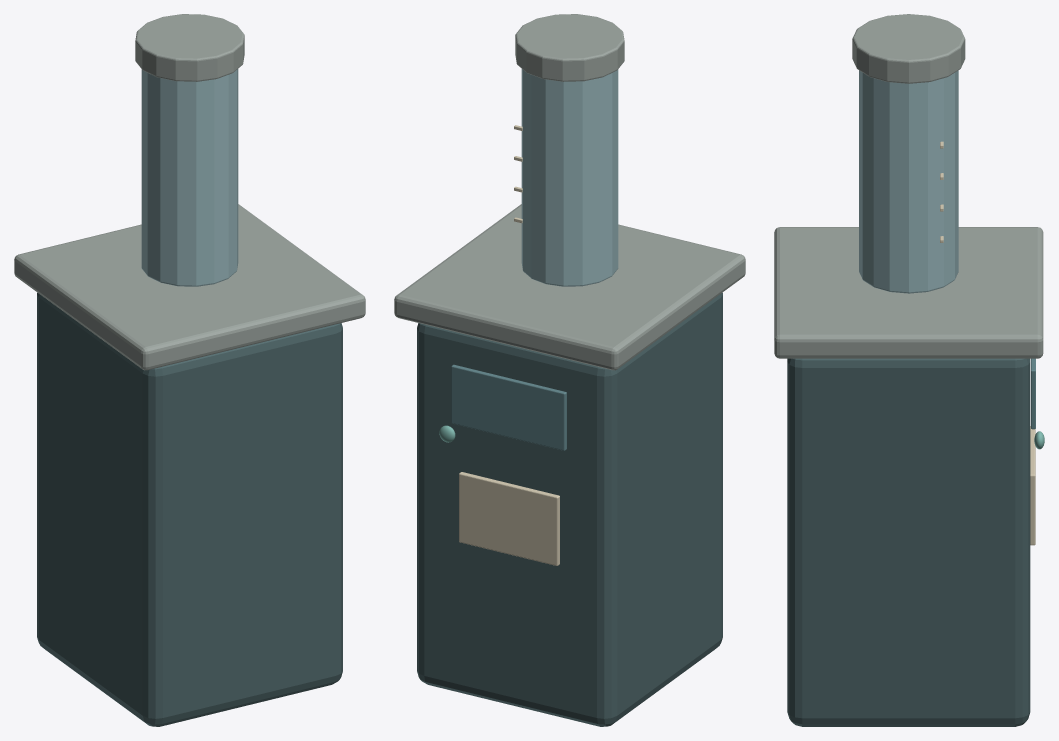
Rendered from vial.fbx.
3 views of the same model, side by side, from view 1: azimuth 30°, elevation 25°; view 2: azimuth 150°, elevation 25°; view 3: azimuth 270°, elevation 25° (orthographic). The views are drawn at different scales.
Parts seen in each view (by area): view 1: vial; view 2: vial; view 3: vial.
Boxes of the visible parts, x1,y1,x2,y2 form: vial: (14, 14, 365, 726); vial: (394, 14, 745, 726); vial: (774, 14, 1044, 726).
Bounding box in the file's own units: 61 × 164 × 62.3.
